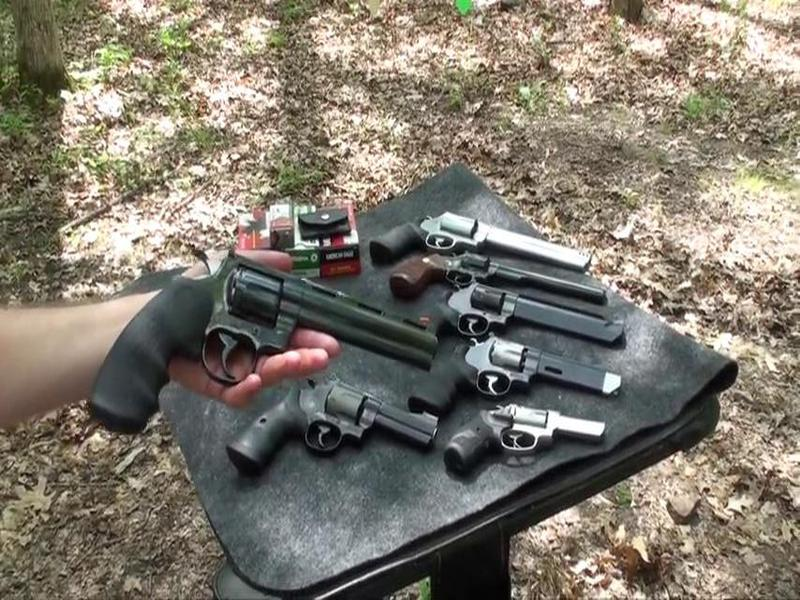Revolver: (116, 240, 450, 411)
